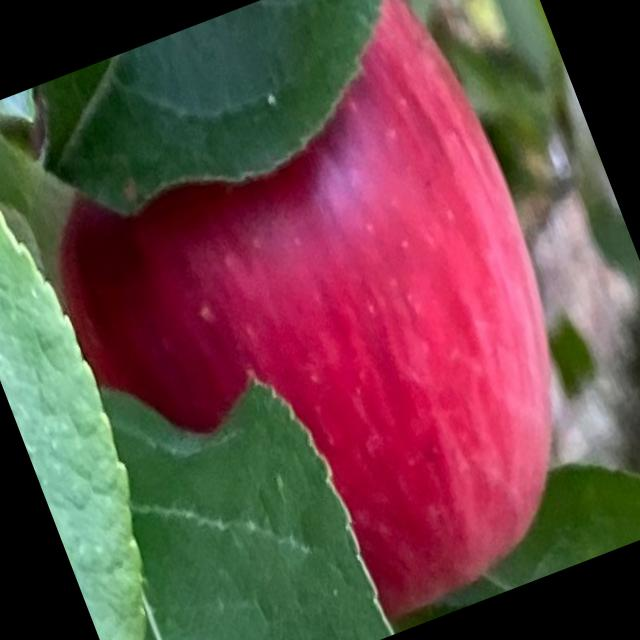Apples: (0, 0, 637, 639)
